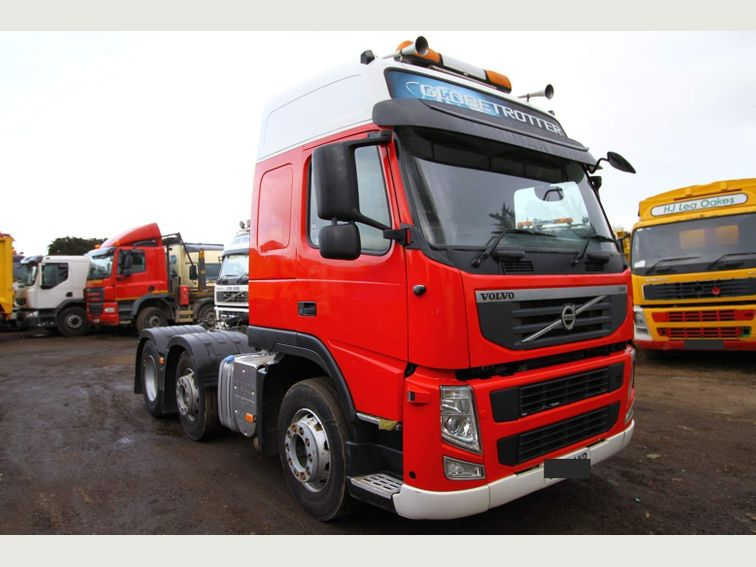Semi: (134, 34, 635, 520), (629, 177, 755, 355), (83, 219, 172, 337), (18, 253, 89, 334), (214, 246, 250, 326)
